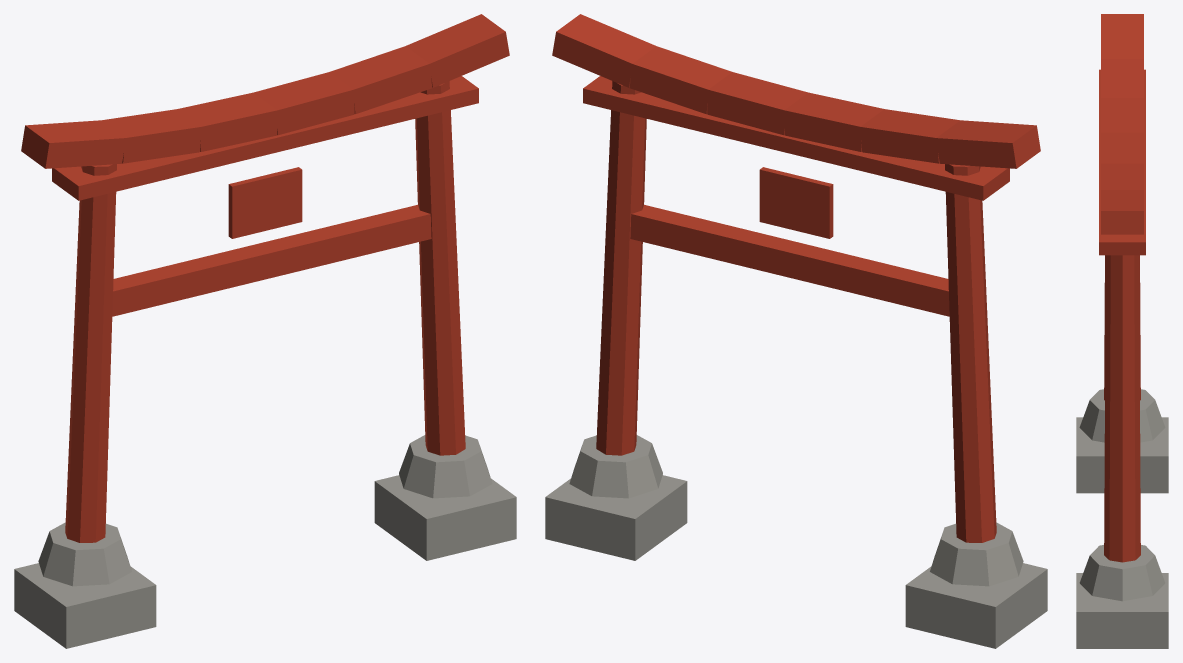
File: torii.glb
3 views of the same model, side by side, from view 1: azimuth 30°, elevation 25°; view 2: azimuth 150°, elevation 25°; view 3: azimuth 270°, elevation 25° (orthographic). The views are drawn at different scales.
Parts seen in each view (by area): view 1: torii; view 2: torii; view 3: torii.
Part boxes in pixels (<box>): torii: <box>14,14,516,648</box>; torii: <box>545,14,1047,648</box>; torii: <box>1076,14,1168,648</box>.
Bounding box in the file's own units: 4.64 × 4.74 × 0.9.
